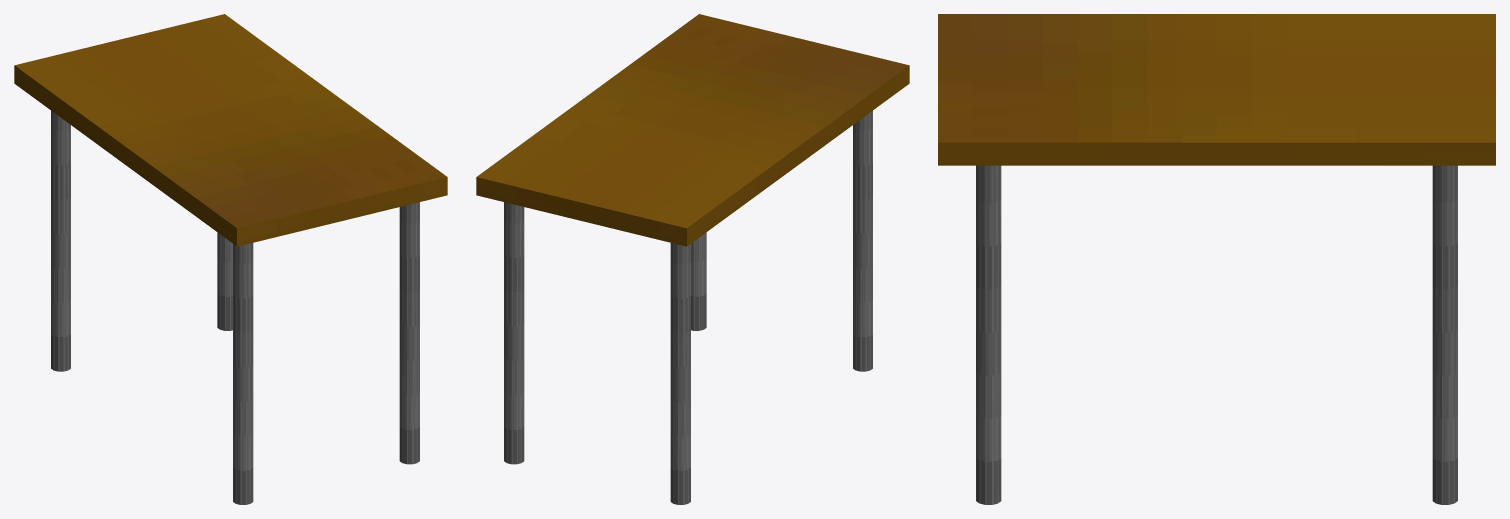
The model's file is Office desk.gltf.
3 renders of one model, left to right at view 1: azimuth 30°, elevation 25°; view 2: azimuth 150°, elevation 25°; view 3: azimuth 270°, elevation 25°, orthographic. The views are drawn at different scales.
Visible parts, largest first — view 1: mesh, tube (×4); view 2: mesh, tube (×4); view 3: mesh, tube (×2).
Boxes of the visible parts, x1,y1,x2,y2 form: mesh: (14,14,447,246); tube (×4): (51,110,419,504); mesh: (476,14,909,246); tube (×4): (504,110,872,504); mesh: (938,14,1495,165); tube (×2): (976,165,1457,504).
Size of the model in its own units: 1.5 by 2 by 2.75.
2 materials, 2 textured.
